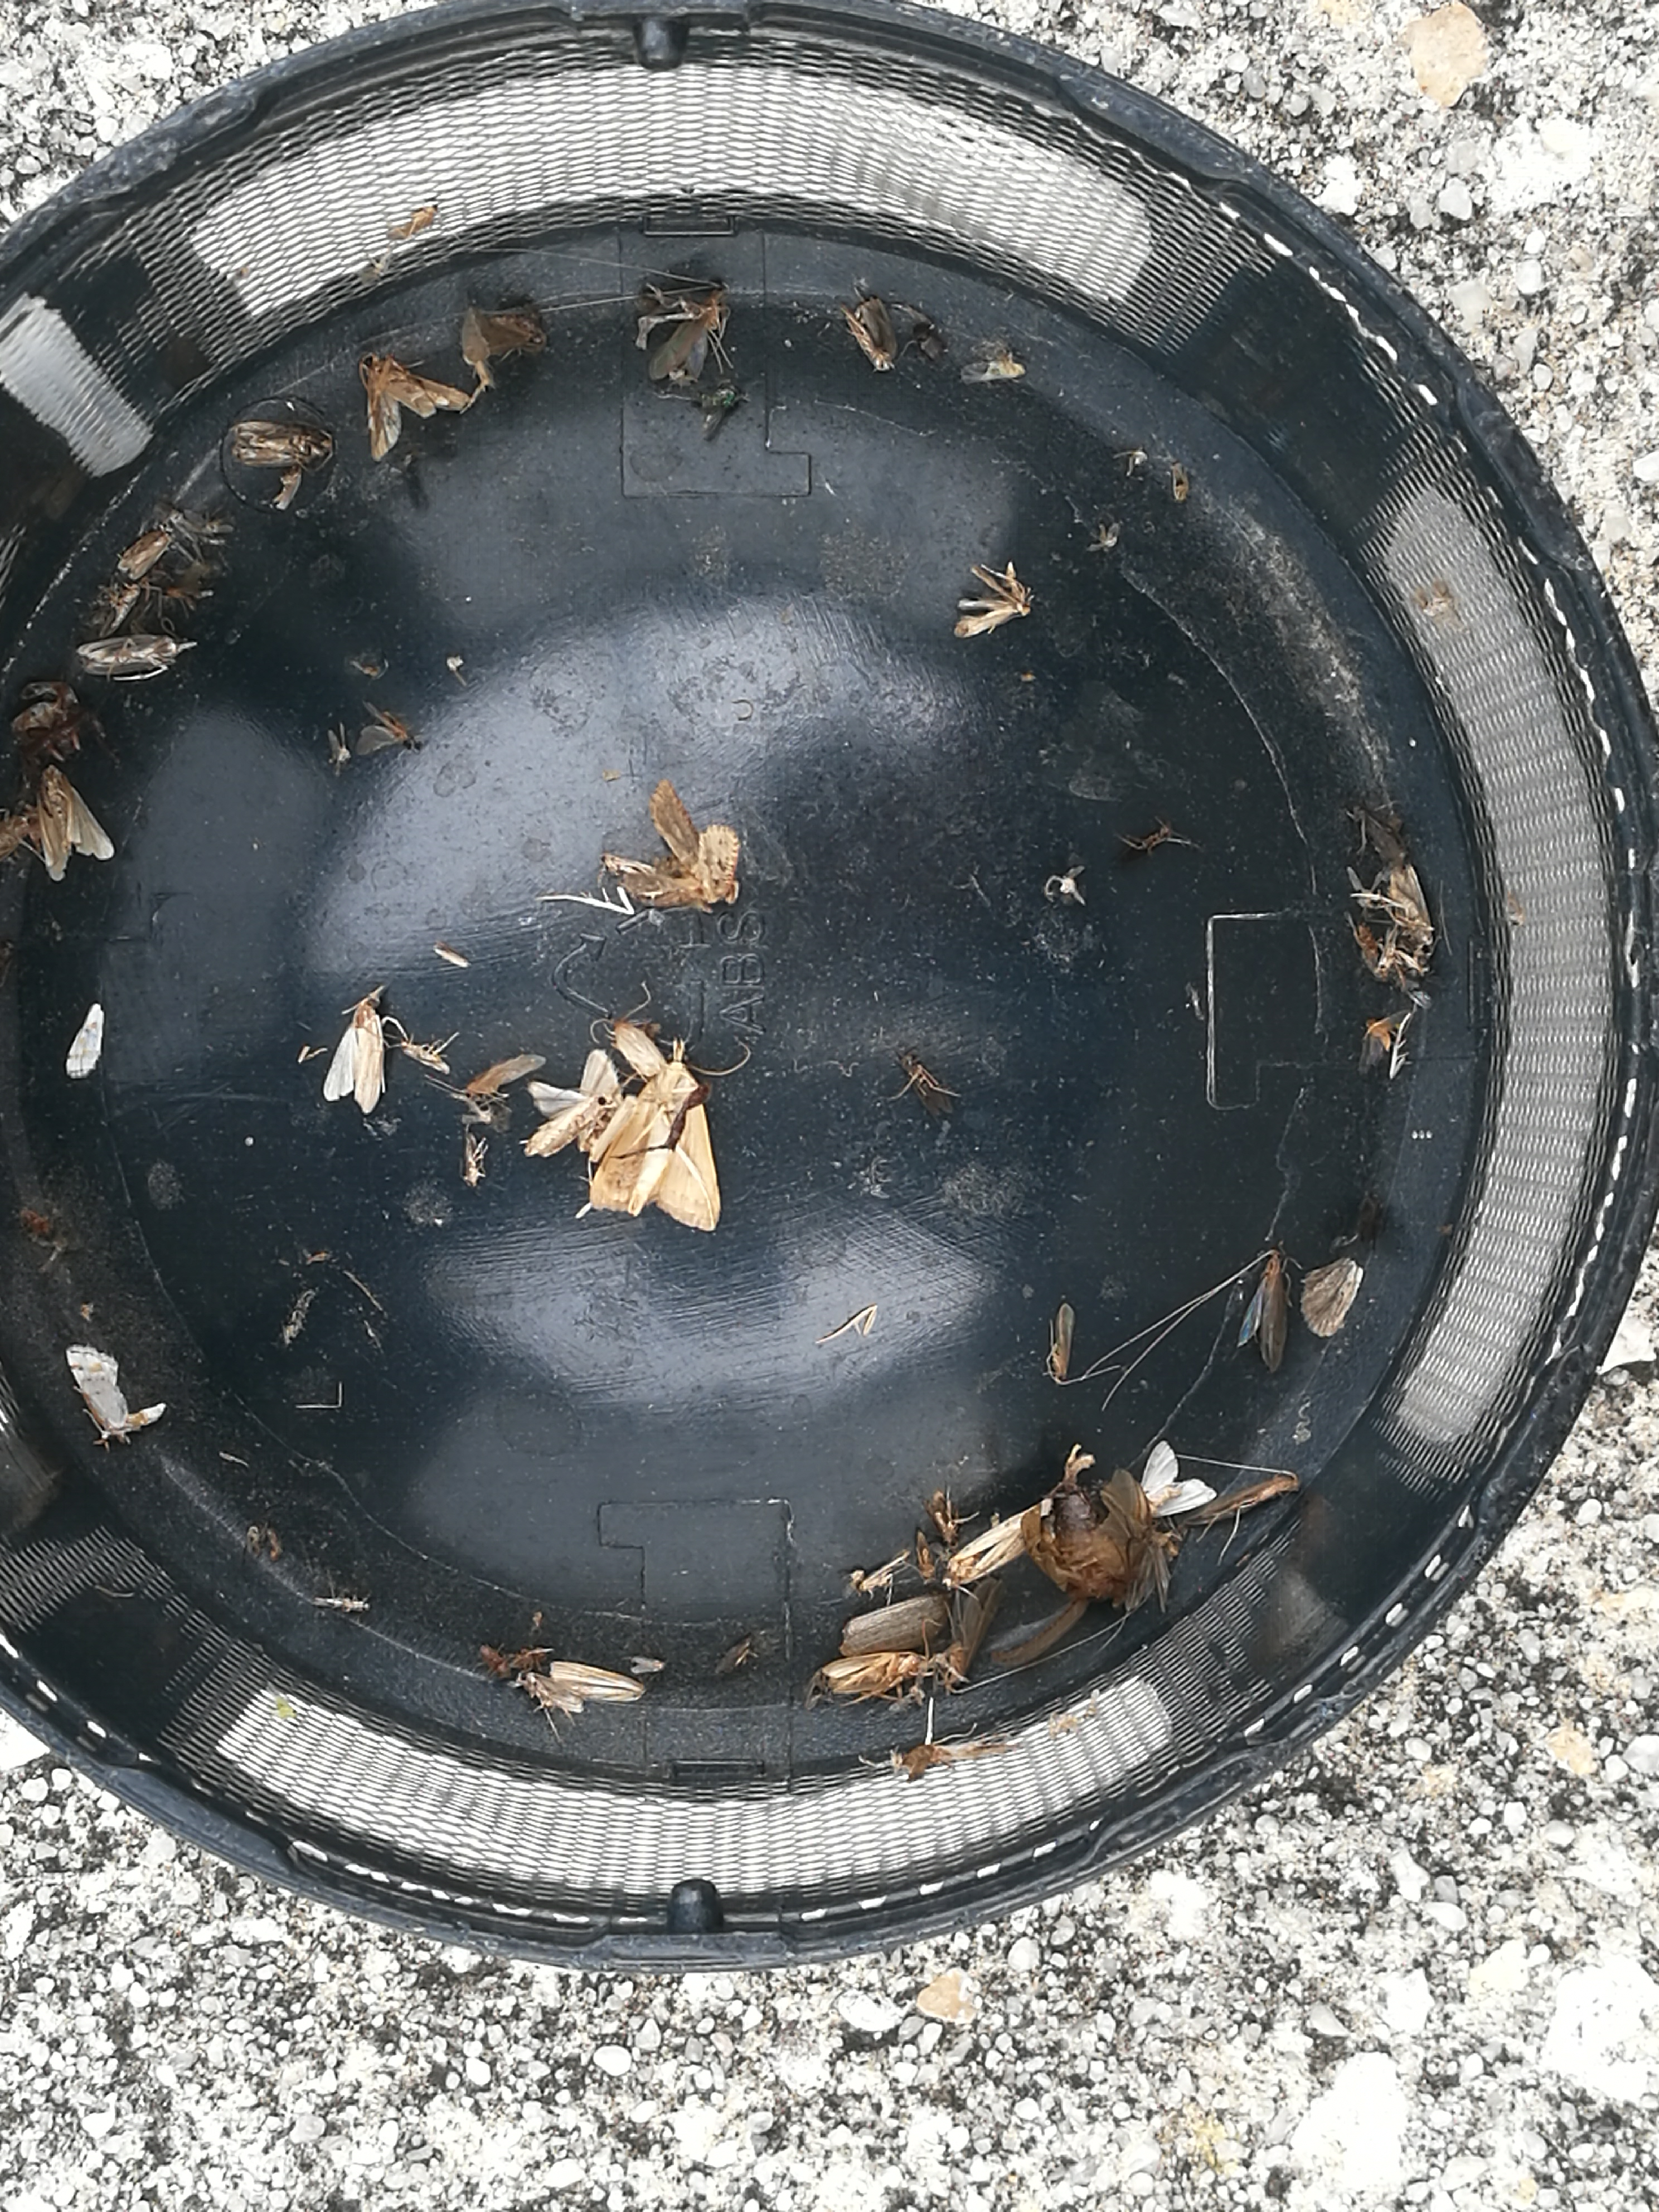beetle: (1044, 1487, 1138, 1616)
mosquito: (645, 282, 725, 380), (1175, 1477, 1300, 1526), (948, 1580, 1004, 1684), (1241, 1252, 1288, 1369), (821, 1651, 929, 1695), (951, 1519, 1021, 1583), (842, 298, 894, 373), (464, 1055, 544, 1103), (518, 1674, 580, 1716), (1053, 1306, 1072, 1379)
moth: (592, 1059, 721, 1231), (626, 782, 741, 906), (361, 354, 465, 462), (66, 1345, 166, 1437), (40, 765, 115, 881), (324, 1001, 383, 1115), (1141, 1442, 1215, 1515), (234, 420, 331, 469), (1385, 867, 1434, 953), (78, 637, 181, 674)
